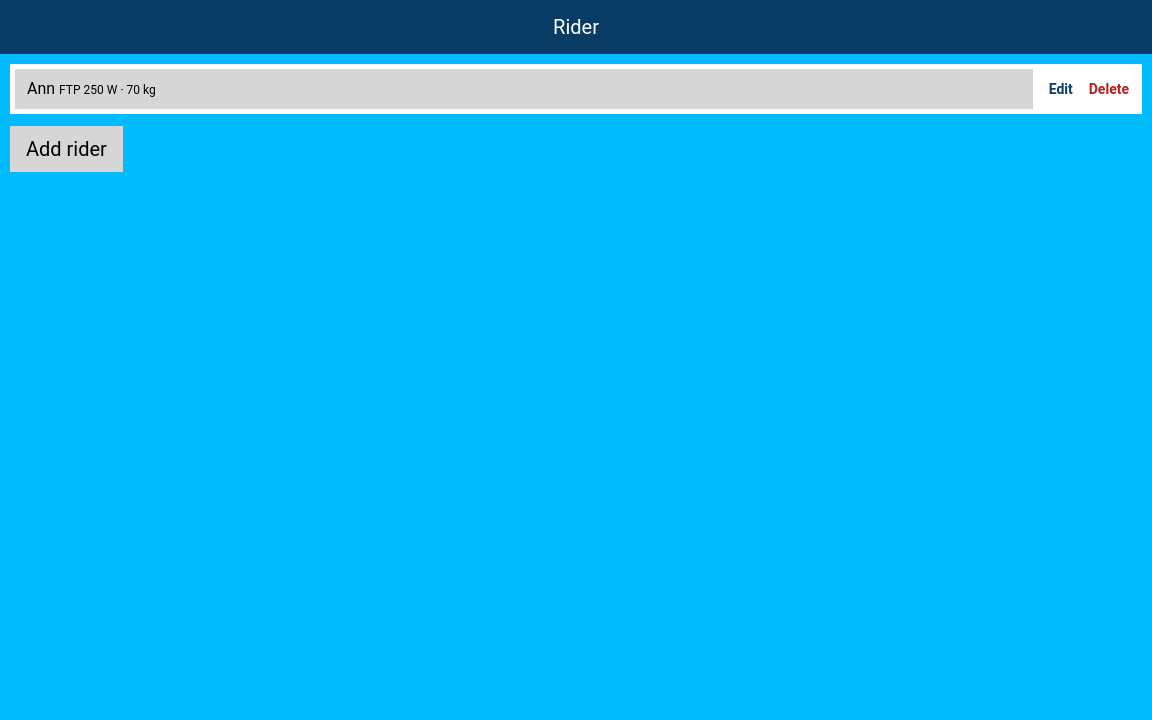
Scenario: RiderScreen › edits a rider in place, keeping id and power zones
This screenshot has width=1152, height=720.
Click the button with aria-label "Edit Ann" at (1061, 89), box [1041,79,1081,99]
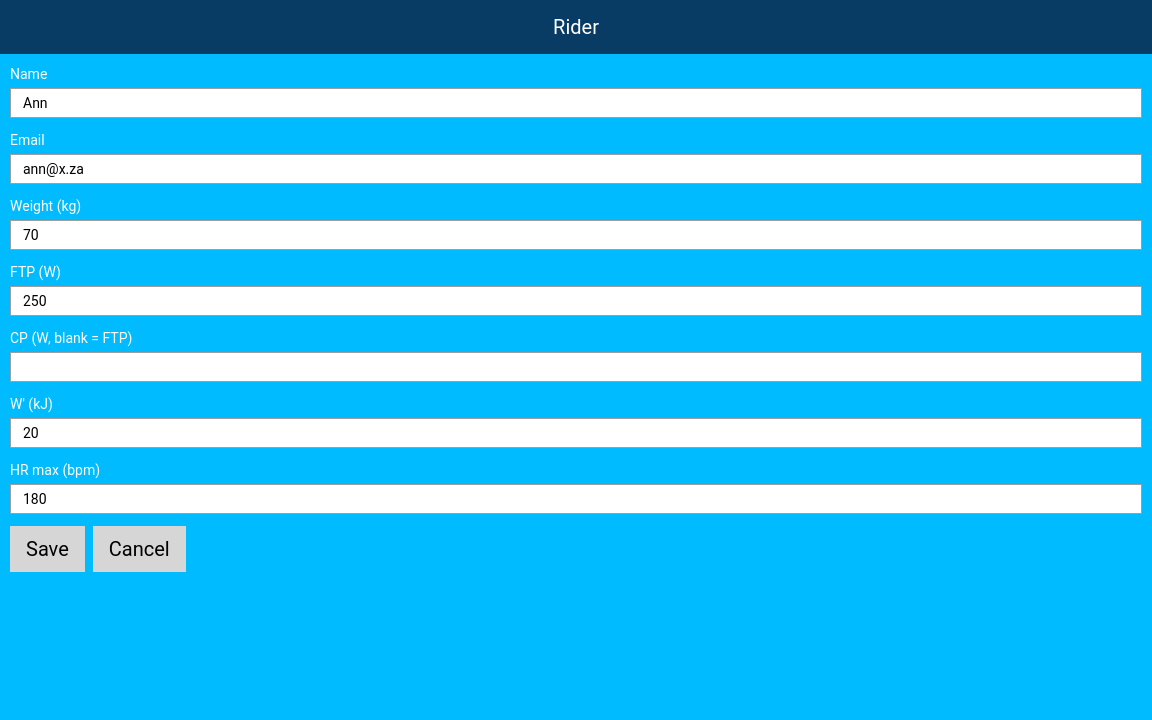
Replace the text in the number field labelled "FTP (W)" with "400" at (576, 301), box [10,286,1142,316]
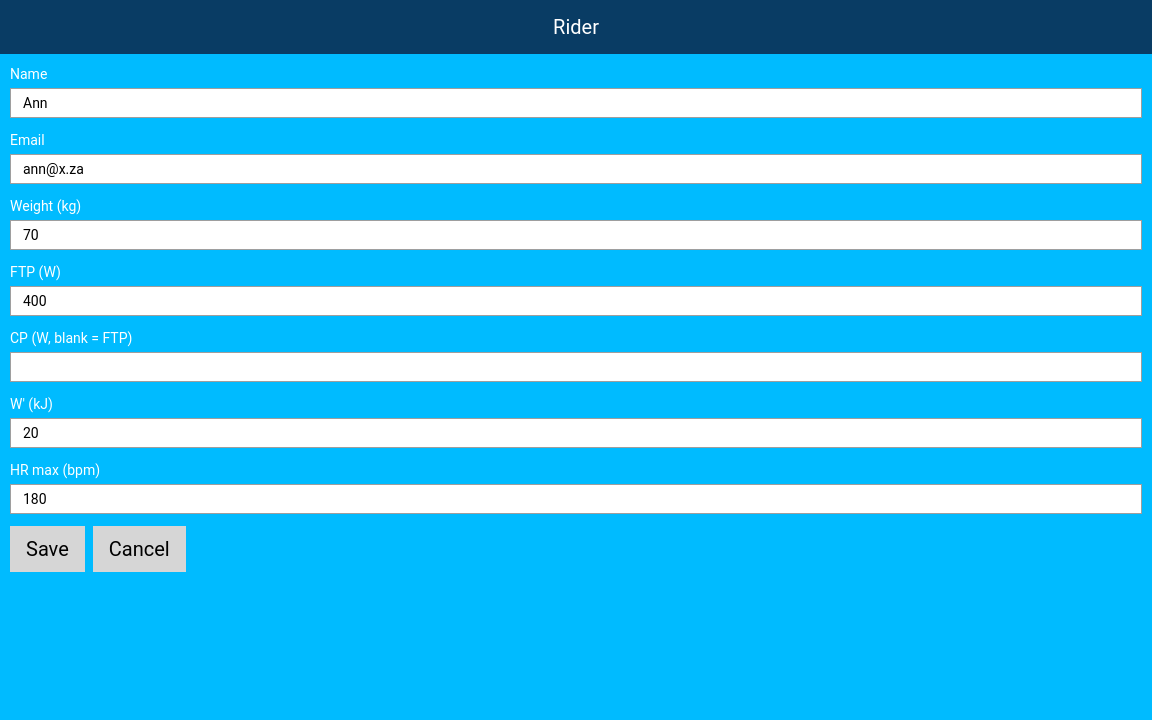
Click the button "Save" at (47, 549), box [10,526,85,572]
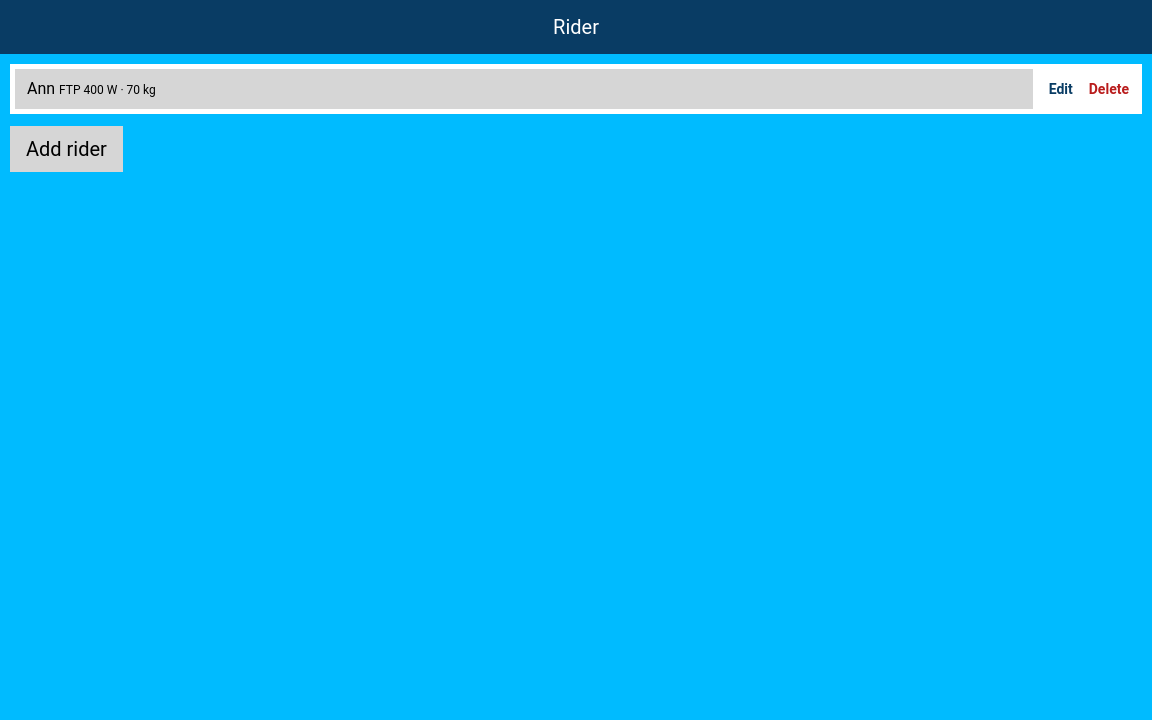
Expected: the button with aria-label "Edit Ann" is shown, [1041,79,1081,99]
